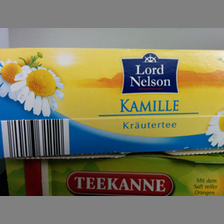tea: (1, 47, 223, 159)
